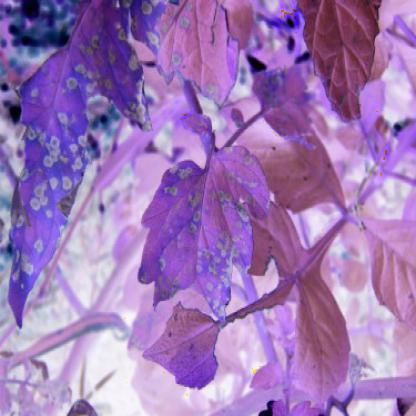tomato septoria leaf spot: (7, 4, 148, 316), (134, 140, 278, 320)
